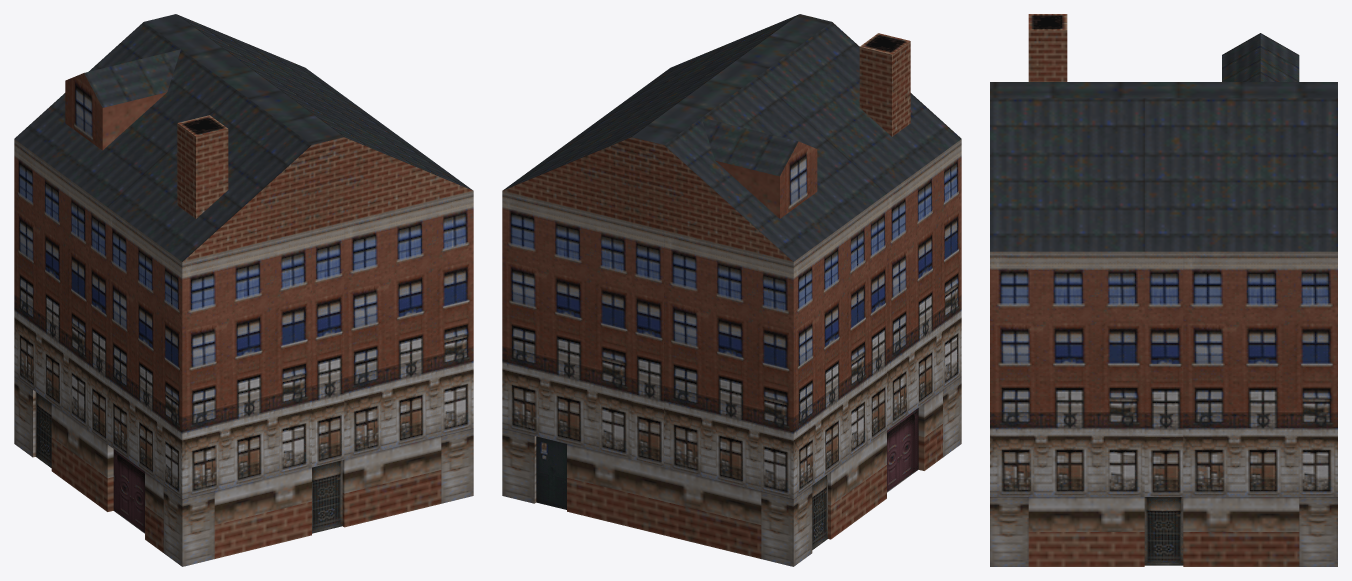
File: building2.fbx
3 renders of one model, left to right at view 1: azimuth 30°, elevation 25°; view 2: azimuth 150°, elevation 25°; view 3: azimuth 270°, elevation 25°, orthographic. The views are drawn at different scales.
Visible parts, largest first — view 1: building2; view 2: building2; view 3: building2.
Boxes of the visible parts, box(x1,y1,x2,y2) form: building2: box(14, 14, 473, 566); building2: box(502, 14, 961, 566); building2: box(990, 14, 1337, 566).
Size of the model in its own units: 1000 by 1000 by 1340.
1 material, 1 textured.
